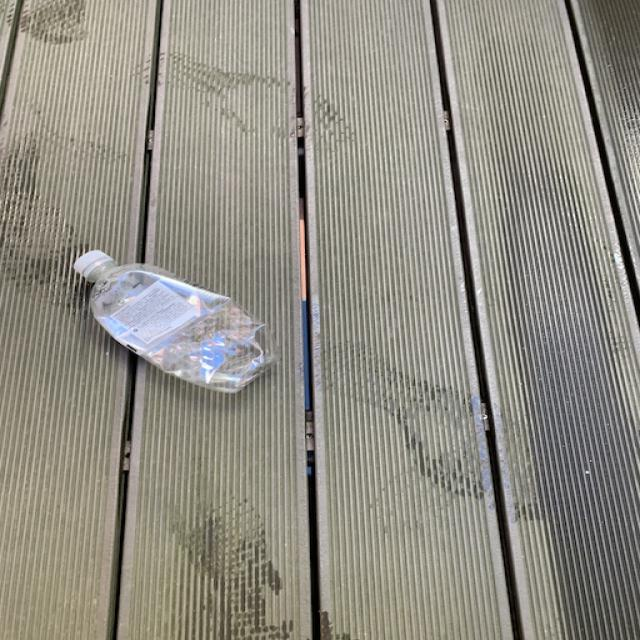Plastic: (74, 251, 278, 393)
